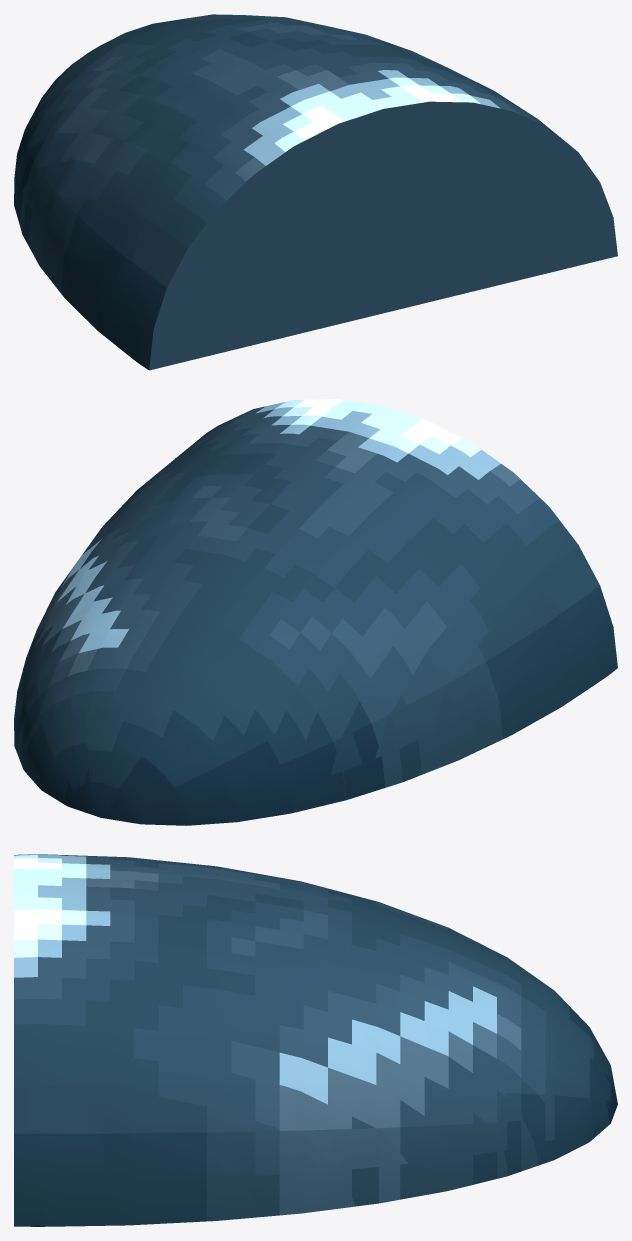
File: coral_egg_t.glb
3 renders of one model, top to bottom at view 1: azimuth 30°, elevation 25°; view 2: azimuth 150°, elevation 25°; view 3: azimuth 270°, elevation 25°, orthographic. The views are drawn at different scales.
Visible parts, largest first — view 1: coral_egg_t_egg_shell; view 2: coral_egg_t_egg_shell; view 3: coral_egg_t_egg_shell.
Part boxes in pixels (x1=…): coral_egg_t_egg_shell: x1=14, y1=14, x2=617, y2=370; coral_egg_t_egg_shell: x1=14, y1=399, x2=617, y2=825; coral_egg_t_egg_shell: x1=14, y1=854, x2=617, y2=1226.
Bounding box in the file's own units: 23.98 × 10 × 24.99.
